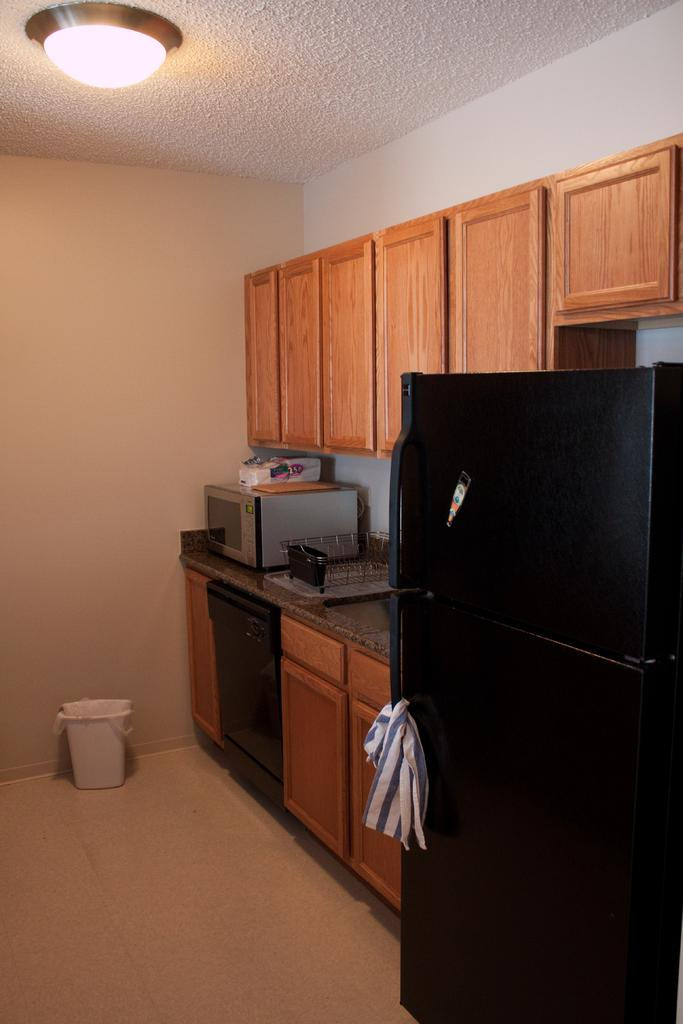cabinet_door: (554, 184, 674, 294), (450, 220, 540, 366), (286, 668, 350, 832), (378, 238, 438, 412), (322, 277, 376, 451), (350, 710, 400, 874), (276, 270, 322, 441), (185, 580, 218, 724), (248, 272, 278, 426)
handle: (385, 418, 415, 596), (385, 596, 414, 744)
